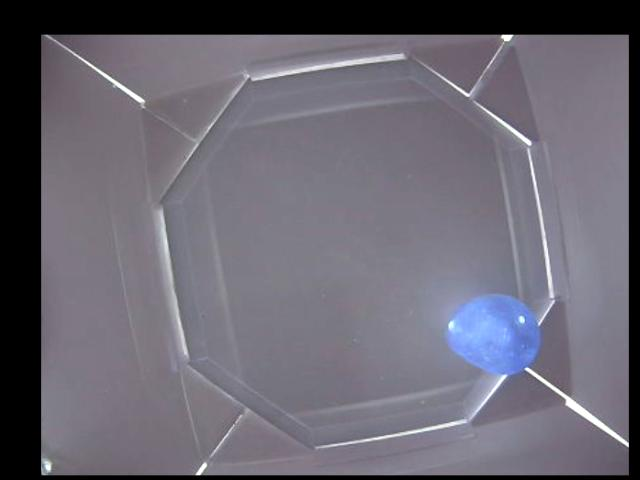Potato: (449, 291, 541, 373)
